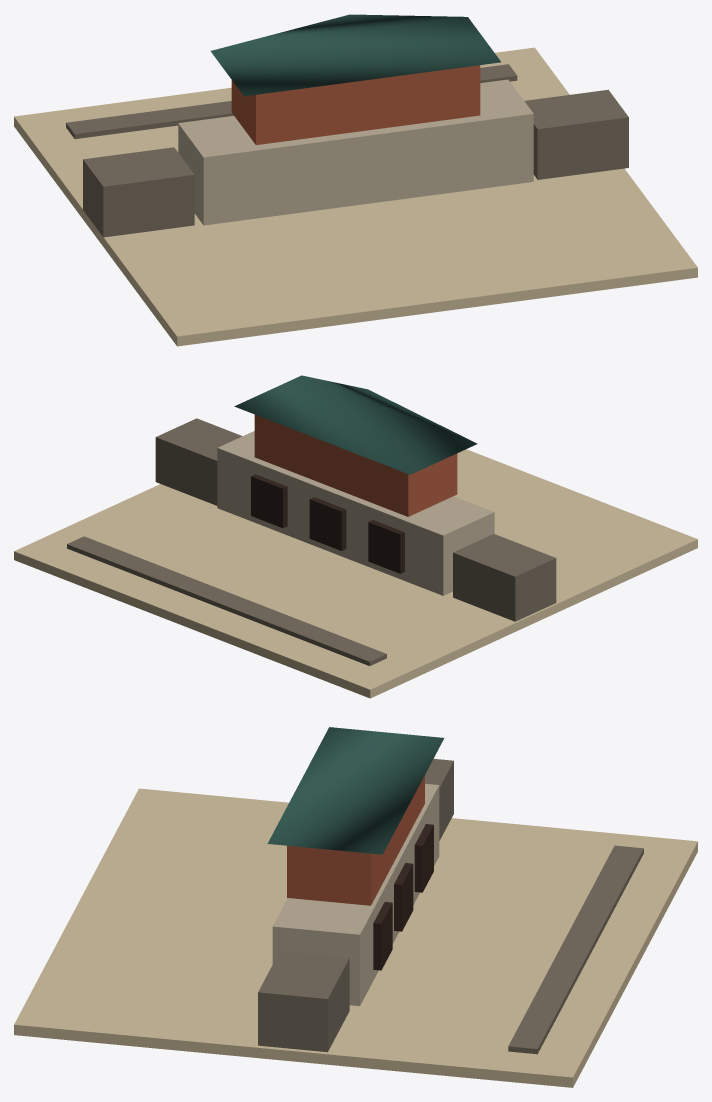
File: model-medium.glb
The picture shows the model from 3 angles, top to bottom: view 1: azimuth 30°, elevation 25°; view 2: azimuth 150°, elevation 25°; view 3: azimuth 270°, elevation 25°; orthographic projection. The views are drawn at different scales.
Visible parts, largest first — view 1: context_site_plinth, city_gate_platform, side_wall_segment (×2), gatehouse_roof, upper_gatehouse_body, front_scale_strip; view 2: context_site_plinth, city_gate_platform, side_wall_segment (×2), gatehouse_roof, upper_gatehouse_body, front_scale_strip, arched_gate_opening (×3); view 3: context_site_plinth, gatehouse_roof, side_wall_segment (×2), city_gate_platform, front_scale_strip, upper_gatehouse_body, arched_gate_opening (×3).
Part boxes in pixels (left/top/right/bottom): context_site_plinth: left=14, top=47, right=697, bottom=346; city_gate_platform: left=178, top=79, right=533, bottom=225; side_wall_segment (×2): left=83, top=89, right=628, bottom=237; gatehouse_roof: left=210, top=14, right=500, bottom=96; upper_gatehouse_body: left=231, top=65, right=480, bottom=144; front_scale_strip: left=66, top=64, right=517, bottom=138; context_site_plinth: left=14, top=449, right=697, bottom=698; city_gate_platform: left=217, top=431, right=494, bottom=595; side_wall_segment (×2): left=155, top=418, right=556, bottom=621; gatehouse_roof: left=234, top=375, right=477, bottom=474; upper_gatehouse_body: left=254, top=414, right=457, bottom=516; front_scale_strip: left=67, top=536, right=386, bottom=666; arched_gate_opening (×3): left=251, top=474, right=404, bottom=573; context_site_plinth: left=14, top=788, right=697, bottom=1087; gatehouse_roof: left=267, top=727, right=444, bottom=854; side_wall_segment (×2): left=258, top=759, right=453, bottom=1052; city_gate_platform: left=272, top=783, right=439, bottom=1005; front_scale_strip: left=508, top=845, right=643, bottom=1054; upper_gatehouse_body: left=287, top=775, right=424, bottom=905; arched_gate_opening (×3): left=373, top=824, right=433, bottom=970.
Size of the model in its own units: 9.55 by 2.9 by 9.55.
